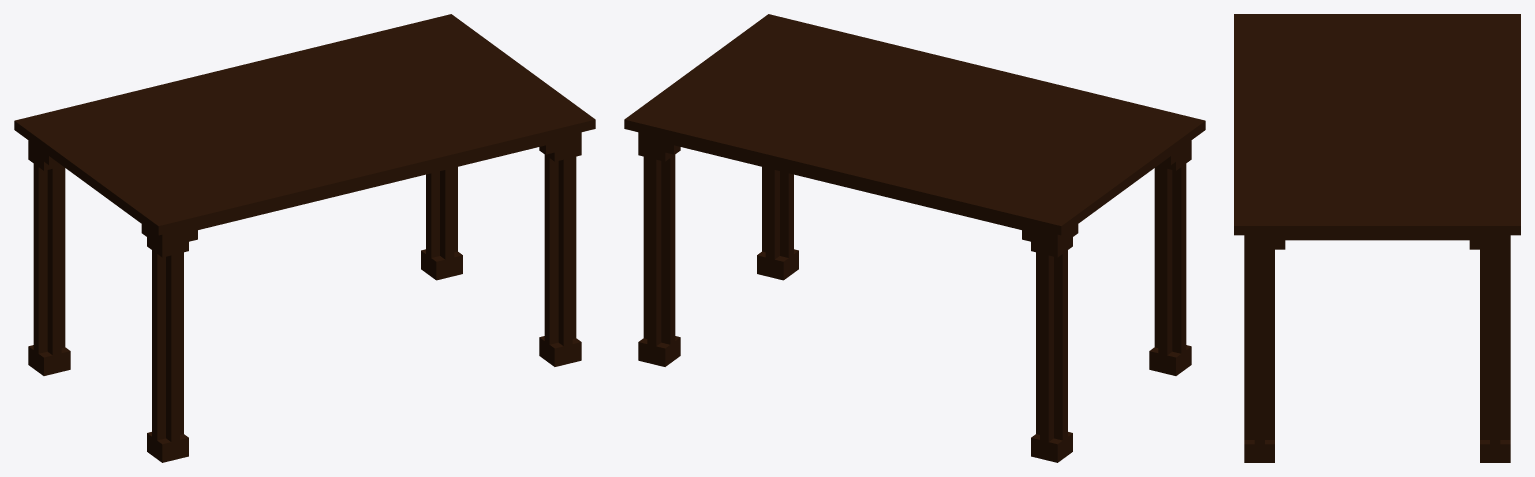
File: Level1-2.obj
3 renders of one model, left to right at view 1: azimuth 30°, elevation 25°; view 2: azimuth 150°, elevation 25°; view 3: azimuth 270°, elevation 25°, orthographic.
Parts seen in each view (by area): view 1: Level1-2; view 2: Level1-2; view 3: Level1-2.
Part boxes in pixels (x1,y1,x2,y2): Level1-2: (14,14,595,462); Level1-2: (624,14,1205,462); Level1-2: (1234,14,1520,462).
Size of the model in its own units: 49 by 26 by 28.
1 material, 1 textured.
